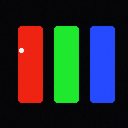0 point: (19, 48, 23, 52)
